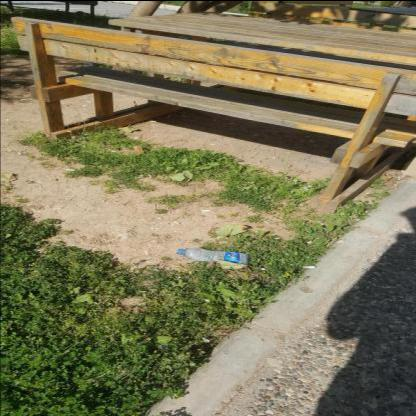Bottle cap: (176, 247, 248, 265)
Cigarette: (203, 297, 211, 302), (202, 336, 210, 340), (303, 265, 316, 267), (257, 266, 265, 269), (200, 210, 210, 212), (173, 230, 183, 232), (66, 168, 75, 170), (318, 221, 324, 224), (148, 173, 152, 177), (228, 121, 235, 123), (149, 119, 156, 121), (18, 151, 22, 154), (19, 98, 25, 100), (86, 100, 92, 102), (166, 114, 170, 117), (309, 139, 315, 141), (390, 186, 396, 188), (16, 83, 20, 85), (82, 104, 86, 106), (364, 194, 368, 196), (240, 128, 247, 129), (398, 176, 400, 179), (214, 118, 216, 120)
Unlabeled litter: (112, 149, 115, 151)
